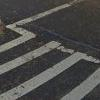Crosswalk: (15, 30, 99, 100)
